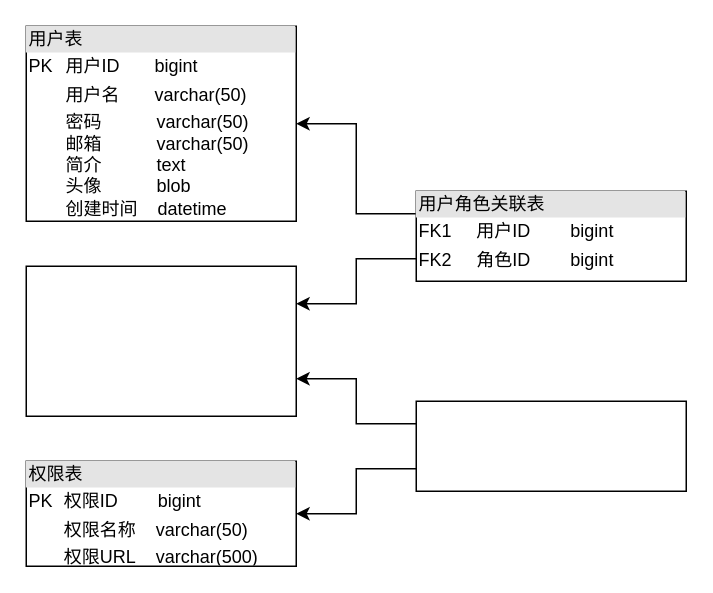
The diagram is 713 pixels wide and 593 high, and some of its shapes have lost their labels. The box of each missing label's shape, as (x1, y1, x2, y2) in pixels:
角色权限关联表 FK1 角色ID bigint FK2 权限ID bigint: (415, 400, 686, 491)
角色表 PK 角色ID bigint 角色名 varchar(50) 有效标识 int 创建人 bigint 创建时间 datetime: (25, 265, 296, 416)
